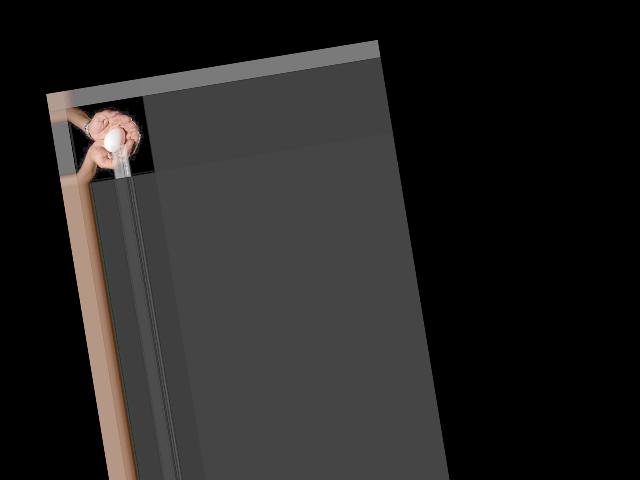egg: (102, 126, 128, 152)
